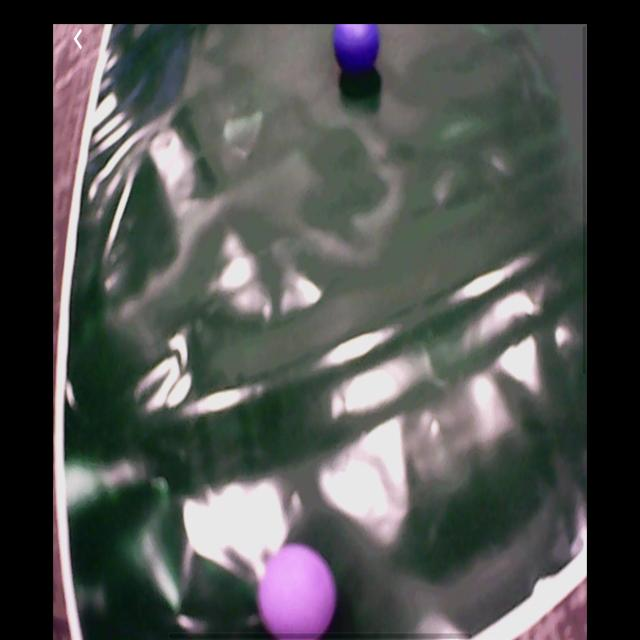ball: (258, 546, 339, 638), (332, 25, 382, 73)
